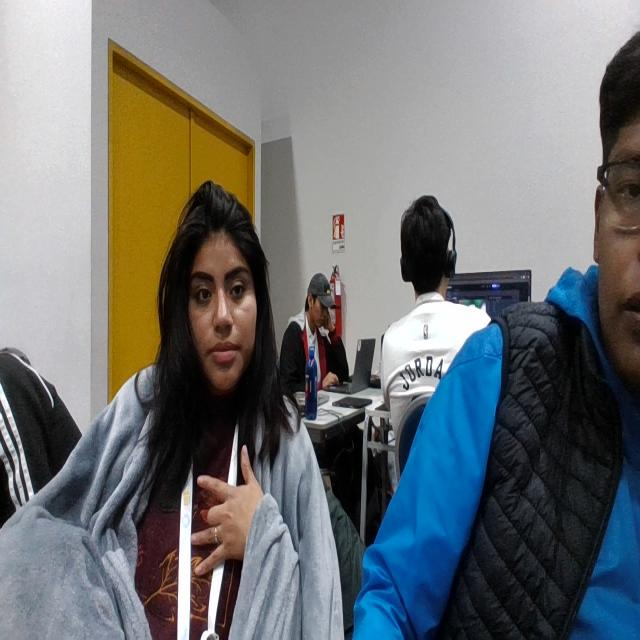feel: (191, 434, 269, 588)
